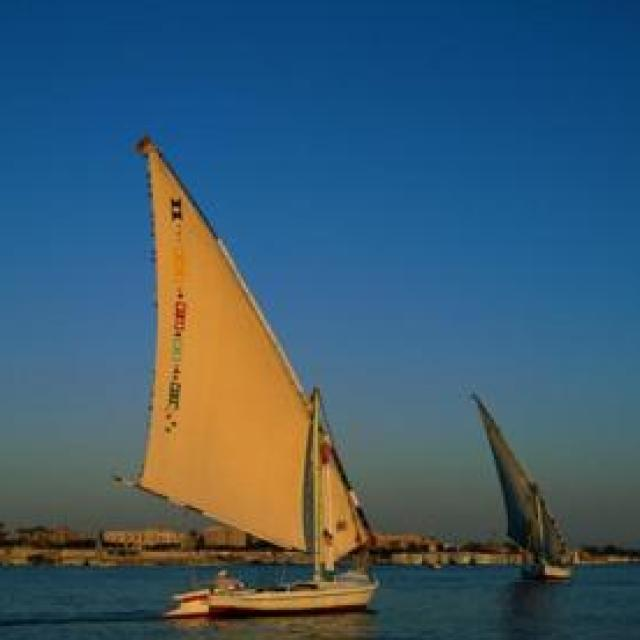sailboat: (116, 132, 383, 617), (469, 388, 584, 580)
